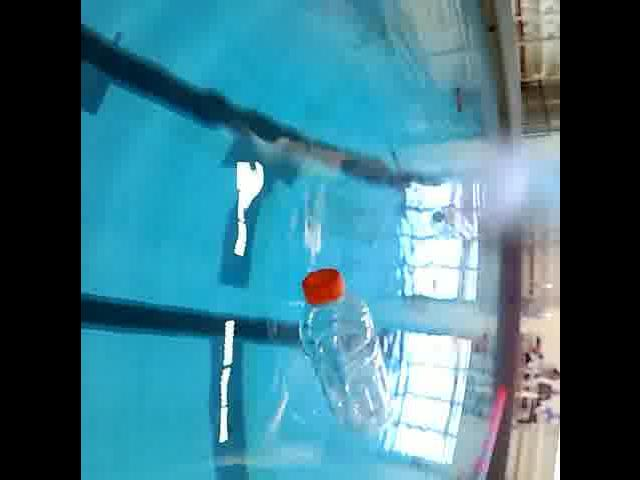Bottle: (290, 260, 398, 438)
